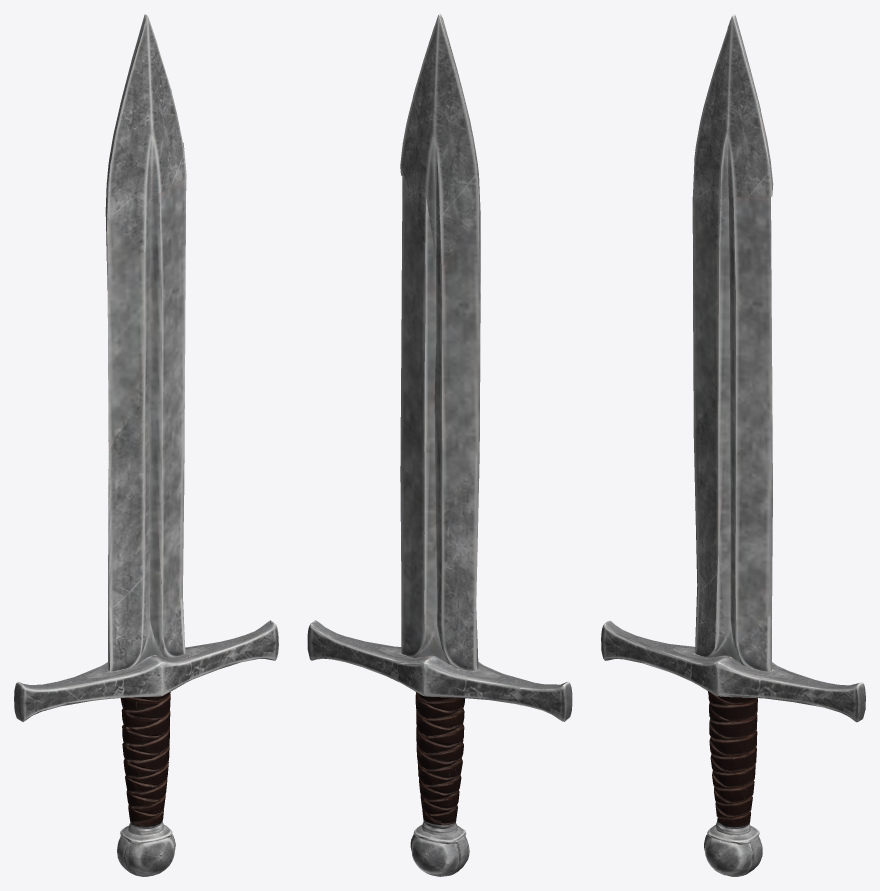
The model's file is sword-plain-broad.glb.
3 renders of one model, left to right at view 1: azimuth 30°, elevation 25°; view 2: azimuth 150°, elevation 25°; view 3: azimuth 330°, elevation 25°, orthographic.
Visible parts, largest first — view 1: output_unwrapped; view 2: output_unwrapped; view 3: output_unwrapped.
Part boxes in pixels (bbox=[...]): output_unwrapped: bbox=[14, 14, 278, 876]; output_unwrapped: bbox=[307, 14, 572, 876]; output_unwrapped: bbox=[601, 14, 865, 876].
Bounding box in the file's own units: 0.6013 × 1.9 × 0.1289.
1 material, 1 textured.
